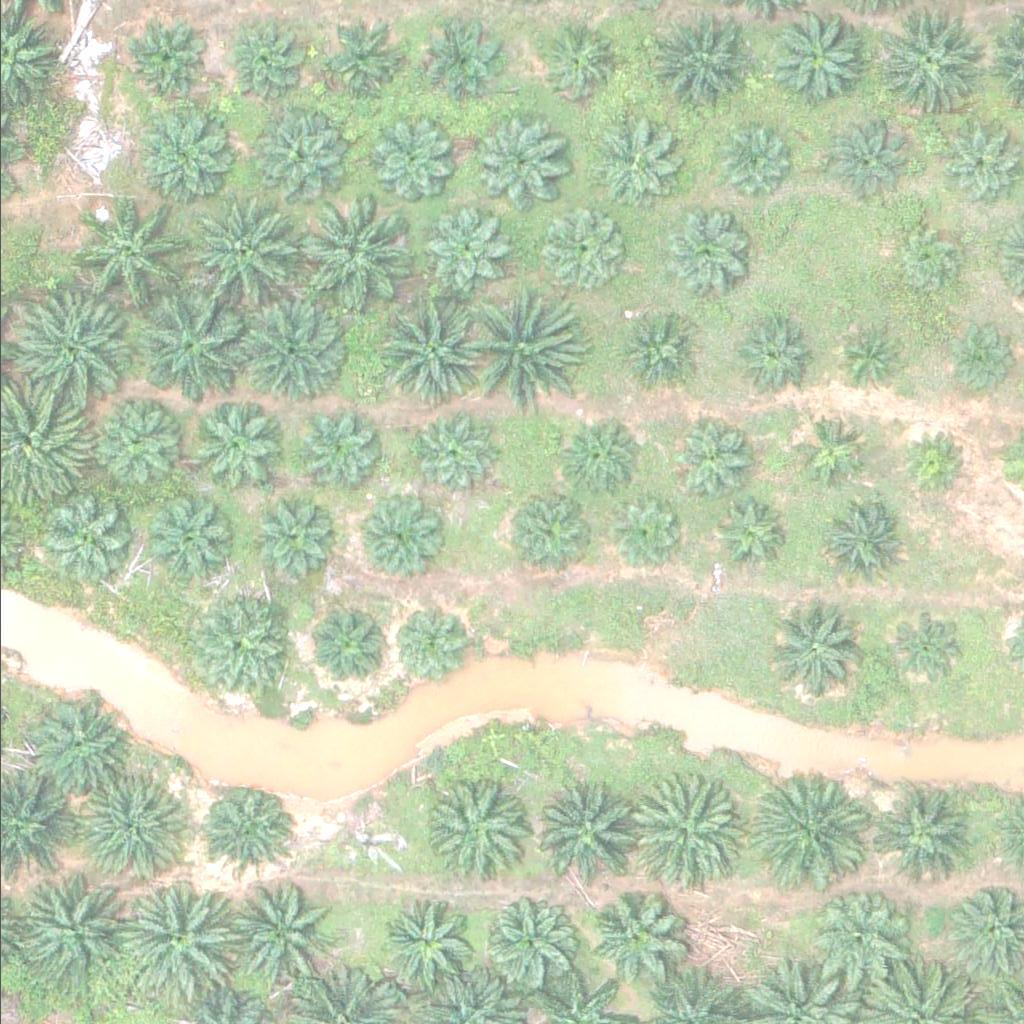Kelapa_Sawit: (9, 872, 123, 985), (73, 770, 187, 883), (755, 776, 869, 889), (236, 287, 350, 400), (632, 772, 745, 885), (460, 294, 573, 407), (139, 291, 252, 404), (522, 779, 636, 891), (11, 298, 125, 410), (233, 883, 346, 995), (119, 887, 232, 999), (367, 292, 480, 404), (73, 199, 186, 311), (182, 199, 295, 311), (294, 195, 407, 307), (870, 1, 983, 113), (478, 889, 579, 989), (382, 893, 483, 993), (426, 782, 527, 882), (762, 597, 863, 697), (193, 595, 294, 695), (132, 487, 233, 587), (239, 104, 340, 204), (760, 8, 861, 108), (871, 784, 972, 884), (25, 695, 126, 795), (586, 886, 686, 986), (87, 397, 187, 497), (183, 401, 283, 501), (134, 103, 234, 203), (809, 889, 909, 989), (668, 414, 757, 502), (880, 606, 969, 694), (725, 312, 813, 400), (609, 300, 697, 388), (502, 484, 590, 572), (292, 407, 380, 495), (466, 116, 554, 204), (365, 116, 453, 204), (117, 15, 205, 103), (534, 17, 622, 105), (533, 206, 621, 294), (820, 115, 908, 203), (816, 500, 904, 588), (205, 783, 293, 870), (554, 413, 642, 500), (406, 406, 494, 493), (349, 495, 437, 582), (303, 602, 391, 689), (33, 496, 121, 583), (254, 491, 342, 578), (227, 13, 315, 100), (324, 21, 412, 108), (421, 13, 509, 100), (662, 208, 750, 295), (420, 205, 508, 292), (589, 119, 677, 206), (711, 123, 787, 198), (940, 321, 1016, 396), (601, 496, 677, 571), (388, 605, 464, 680), (828, 319, 904, 394), (791, 411, 866, 486), (886, 225, 961, 300), (707, 499, 782, 574), (895, 426, 970, 501)
